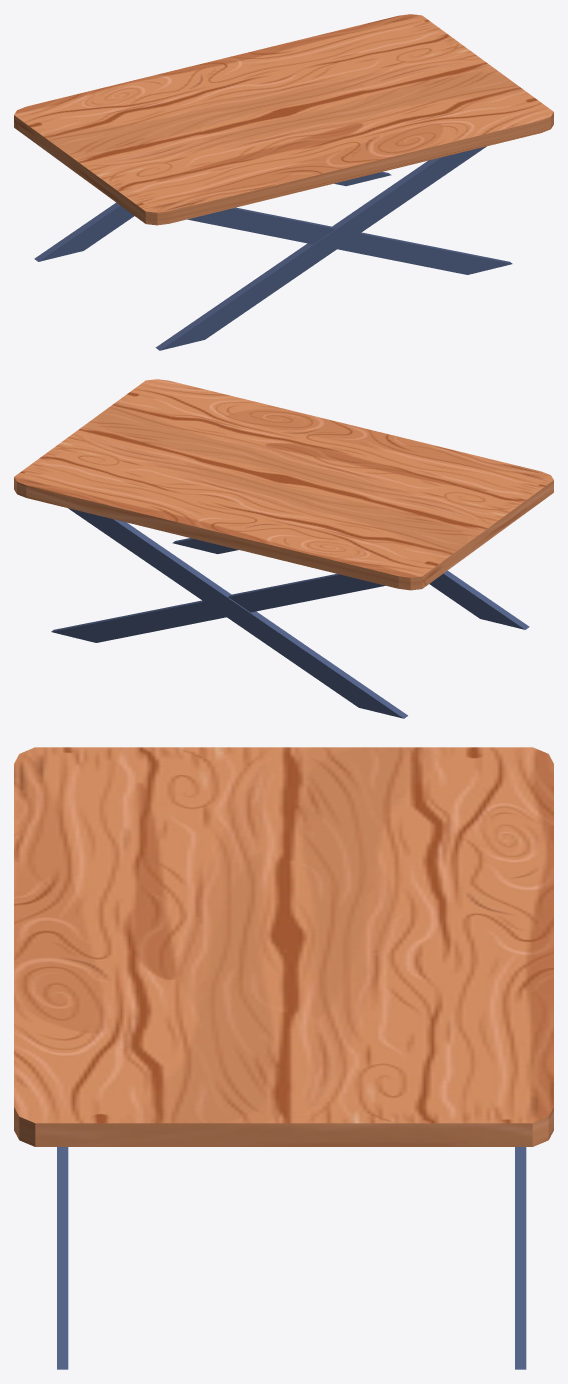
Rendered from Table3.fbx.
3 views of the same model, one above another, from view 1: azimuth 30°, elevation 25°; view 2: azimuth 150°, elevation 25°; view 3: azimuth 270°, elevation 25° (orthographic). The views are drawn at different scales.
Visible parts, largest first — view 1: Table3; view 2: Table3; view 3: Table3.
Part boxes in pixels (x1,y1,x2,y2): Table3: [14, 14, 553, 350]; Table3: [14, 379, 553, 718]; Table3: [14, 747, 553, 1369].
Bounding box in the file's own units: 2453 × 1489 × 848.
